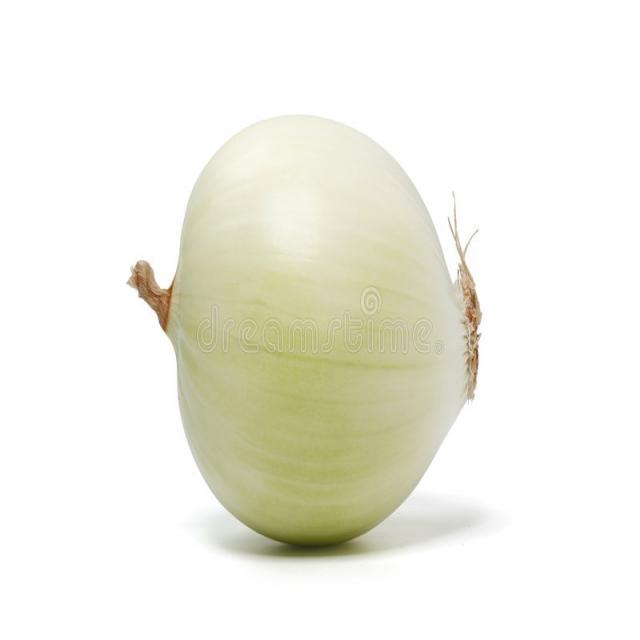onion: (154, 104, 490, 550)
